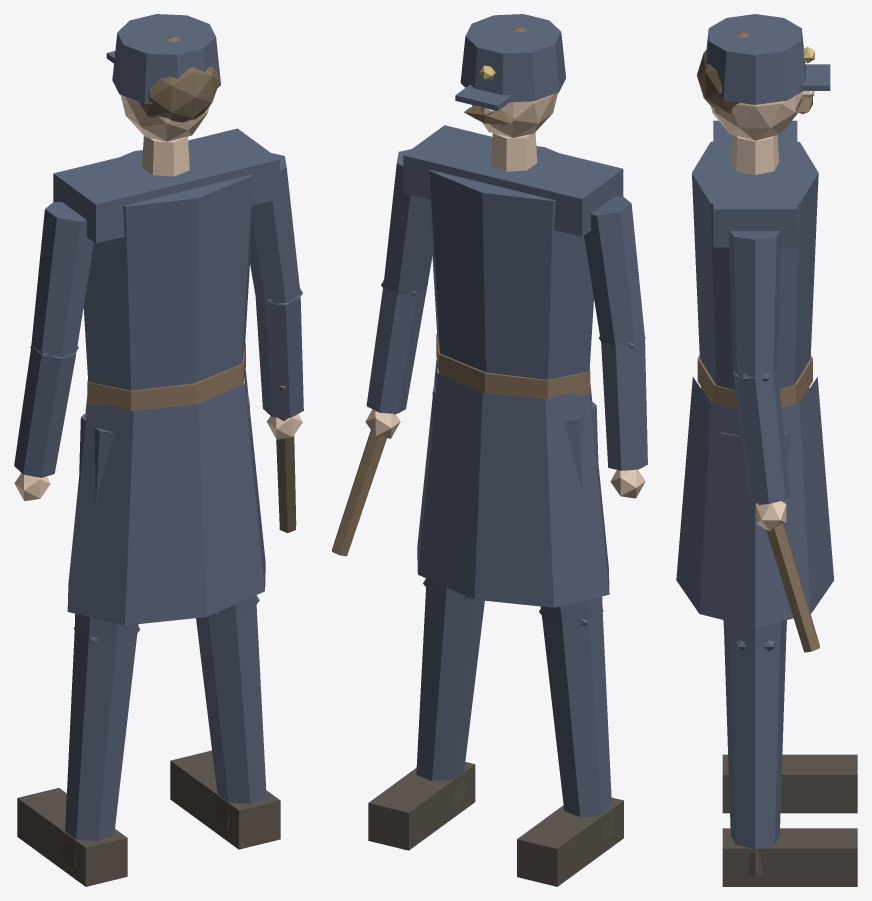
File: police_constable_standing.glb
The picture shows the model from 3 angles, left to right: view 1: azimuth 30°, elevation 25°; view 2: azimuth 150°, elevation 25°; view 3: azimuth 270°, elevation 25°; orthographic projection. The views are drawn at different scales.
Parts seen in each view (by area): view 1: police_blue, boot, skin, leather, hair, wood_dk; view 2: police_blue, boot, skin, leather, wood_dk, hair; view 3: police_blue, boot, skin, wood_dk, leather, hair.
Boxes of the visible parts, box(x1,y1,x2,y2) form: police_blue: box(14, 14, 303, 840); boot: box(17, 750, 280, 886); skin: box(14, 95, 302, 500); leather: box(87, 343, 245, 410); hair: box(138, 36, 219, 122); wood_dk: box(276, 385, 296, 532); police_blue: box(366, 14, 647, 816); boot: box(368, 762, 623, 886); skin: box(365, 92, 645, 498); leather: box(436, 334, 590, 399); wood_dk: box(332, 414, 395, 556); hair: box(464, 26, 558, 125); police_blue: box(676, 14, 833, 850); boot: box(722, 754, 857, 886); skin: box(711, 91, 814, 531); wood_dk: box(758, 503, 819, 652); leather: box(697, 355, 812, 410); hair: box(697, 31, 812, 114).
Size of the model in its own units: 0.7023 by 1.84 by 0.3739.
